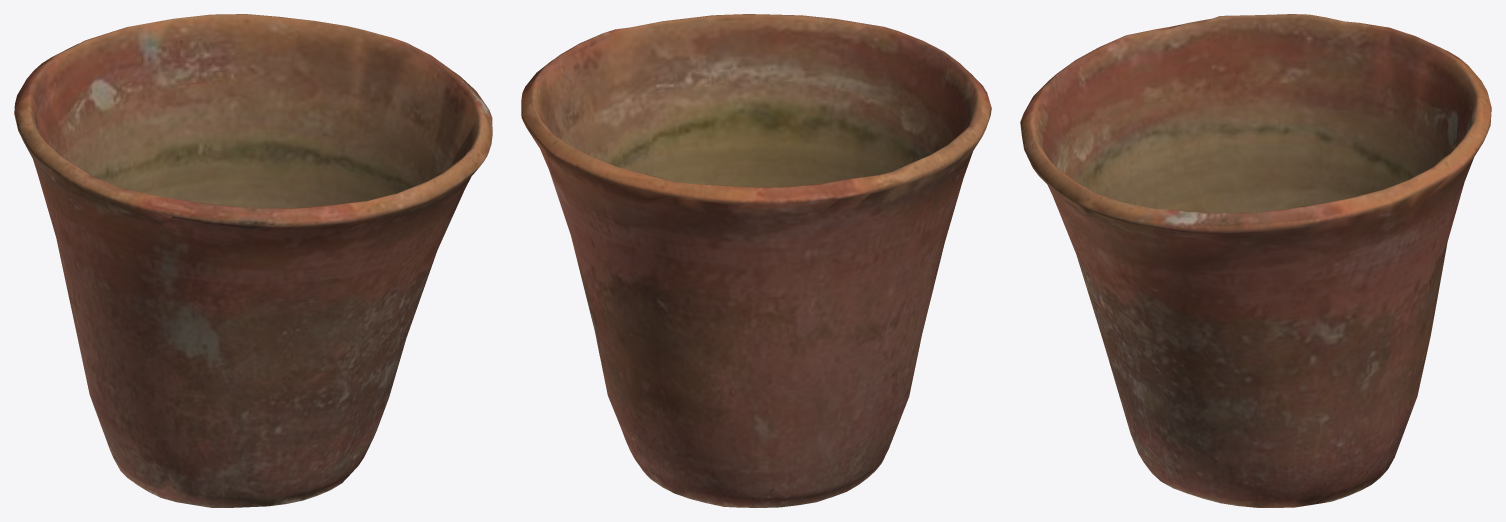
The model's file is clay_pot.glb.
3 views of the same model, side by side, from view 1: azimuth 30°, elevation 25°; view 2: azimuth 150°, elevation 25°; view 3: azimuth 270°, elevation 25° (orthographic).
Size of the model in its own units: 0.2656 by 0.2219 by 0.2635.
Materials: 1 (1 with a texture image).
